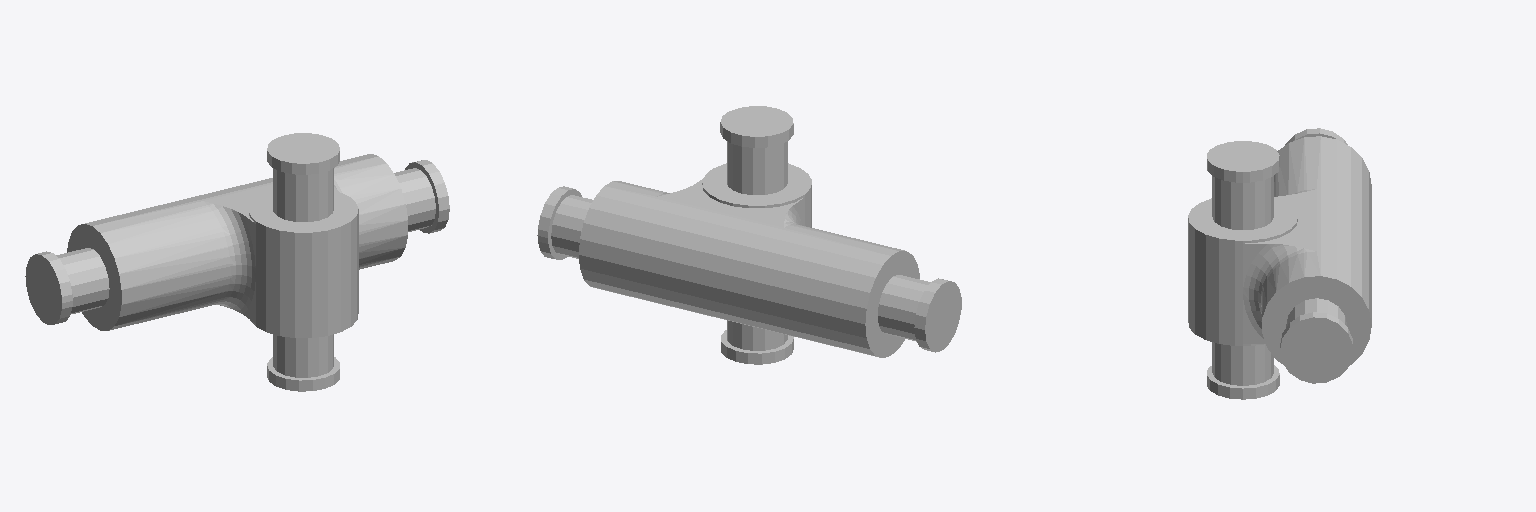
Rendered from Ankle_cross_left.obj.
3 views of the same model, side by side, from view 1: azimuth 30°, elevation 25°; view 2: azimuth 150°, elevation 25°; view 3: azimuth 270°, elevation 25° (orthographic).
Parts seen in each view (by area): view 1: Ankle_Cross_Left; view 2: Ankle_Cross_Left; view 3: Ankle_Cross_Left.
Part boxes in pixels (left/top/right/bottom): Ankle_Cross_Left: left=25, top=133, right=449, bottom=391; Ankle_Cross_Left: left=537, top=106, right=961, bottom=364; Ankle_Cross_Left: left=1188, top=128, right=1371, bottom=399.
Size of the model in its own units: 0.073 by 0.041 by 0.03.